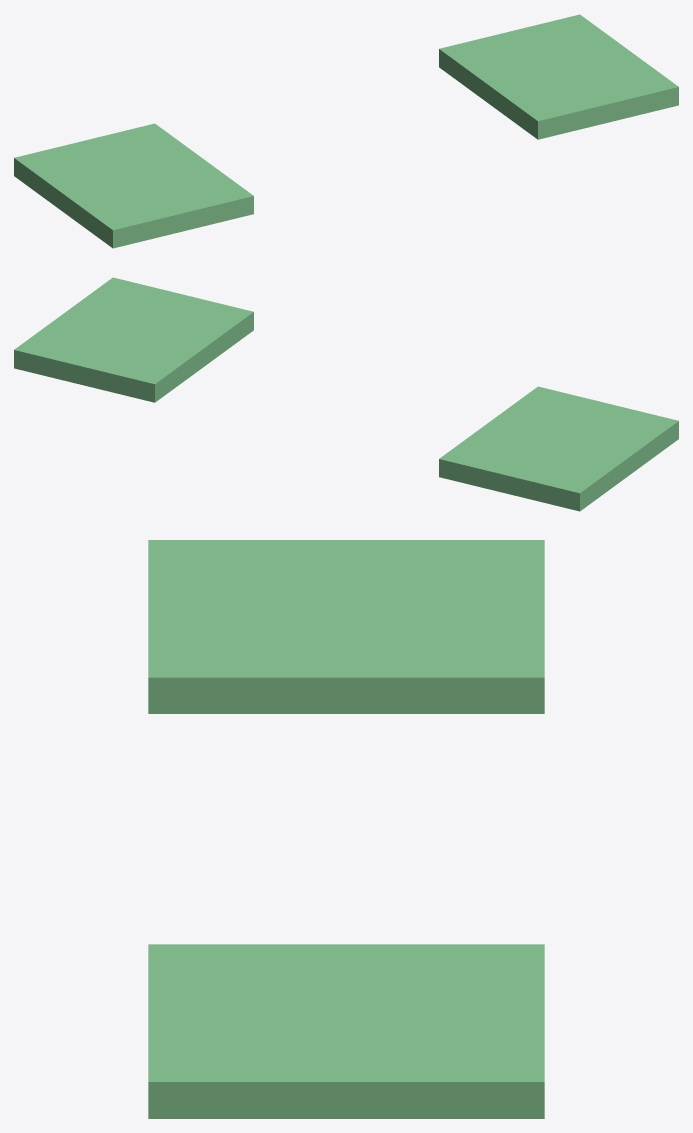
The model's file is Deck_Proxies.glb.
3 views of the same model, one above another, from view 1: azimuth 30°, elevation 25°; view 2: azimuth 150°, elevation 25°; view 3: azimuth 270°, elevation 25° (orthographic). The views are drawn at different scales.
Parts seen in each view (by area): view 1: UCX_BrokenBridge_Right, UCX_BrokenBridge_Left; view 2: UCX_BrokenBridge_Right, UCX_BrokenBridge_Left; view 3: UCX_BrokenBridge_Right, UCX_BrokenBridge_Left.
Boxes of the visible parts, x1,y1,x2,y2 form: UCX_BrokenBridge_Right: [439, 14, 678, 139]; UCX_BrokenBridge_Left: [14, 123, 253, 248]; UCX_BrokenBridge_Right: [14, 277, 253, 402]; UCX_BrokenBridge_Left: [439, 386, 678, 511]; UCX_BrokenBridge_Right: [148, 944, 544, 1118]; UCX_BrokenBridge_Left: [148, 540, 544, 713].
Bounding box in the file's own units: 10.56 × 0.42 × 3.2.
